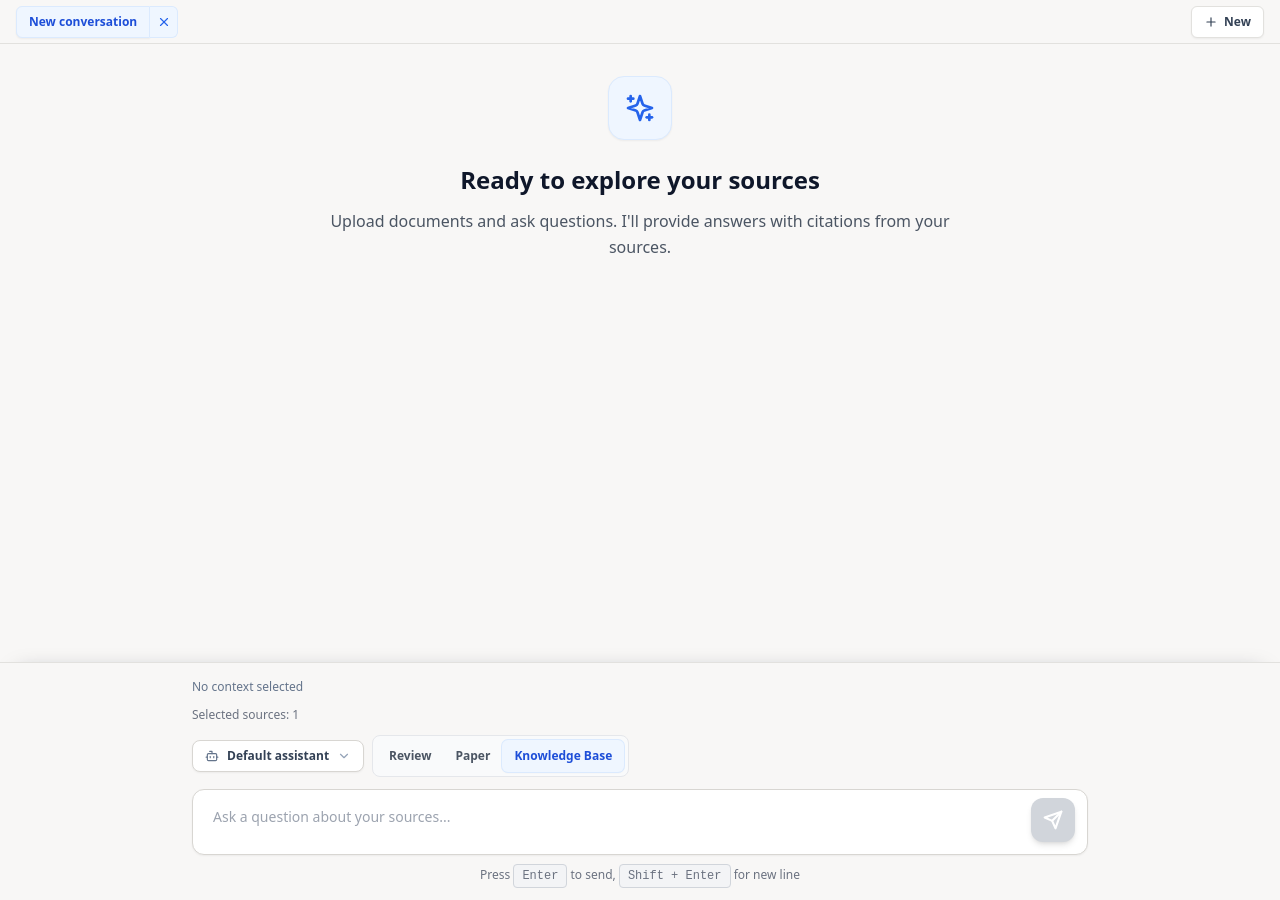
Test: ChatInterface workspace layout › submits a skill command through the inspectable agent run API
Type "/paper_planner outline chapter 2" into the text box with placeholder "Ask a question about your sources..." at (640,818), box [193, 790, 1087, 846]
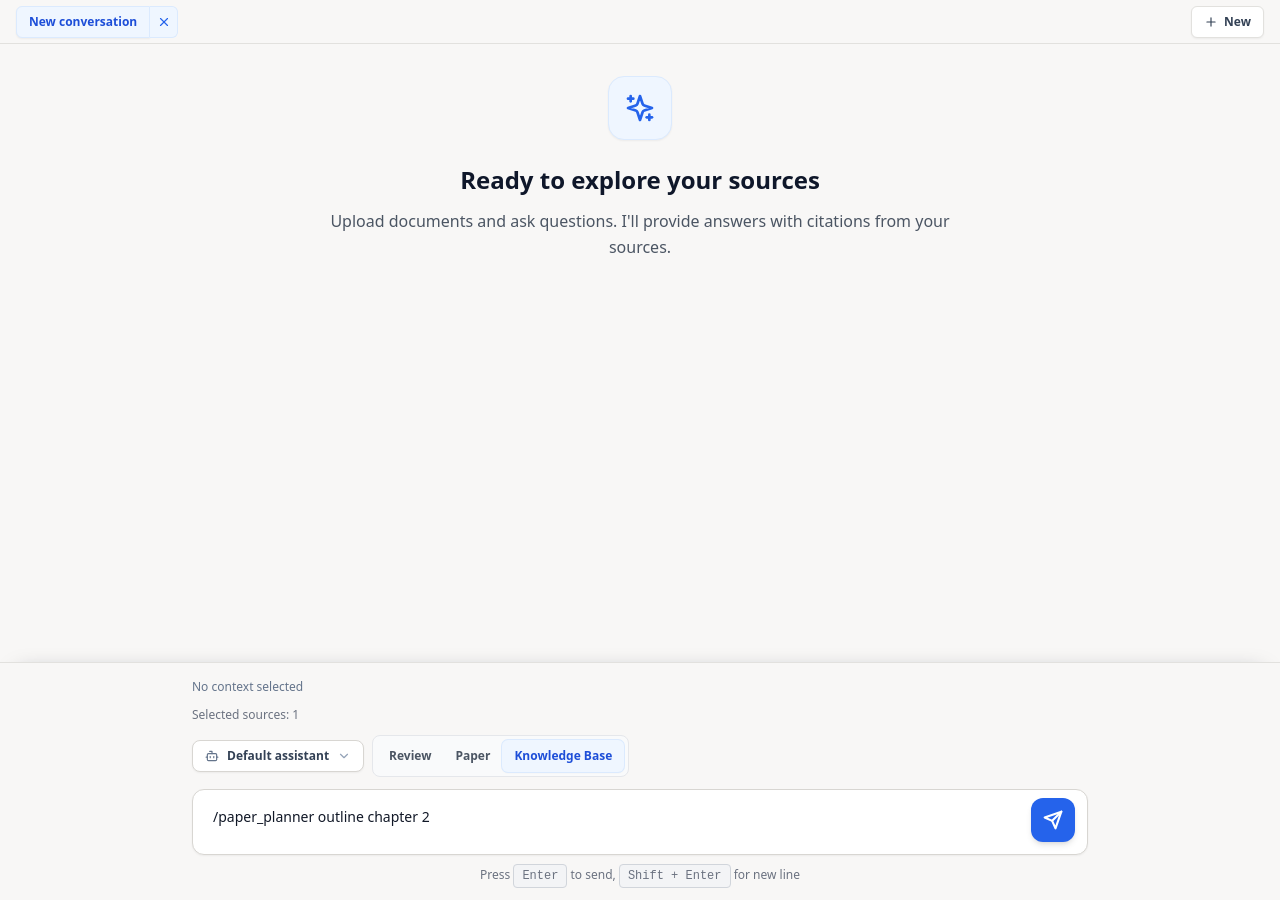
Click the button named "Send message" at (1053,820), box [1031, 798, 1075, 842]
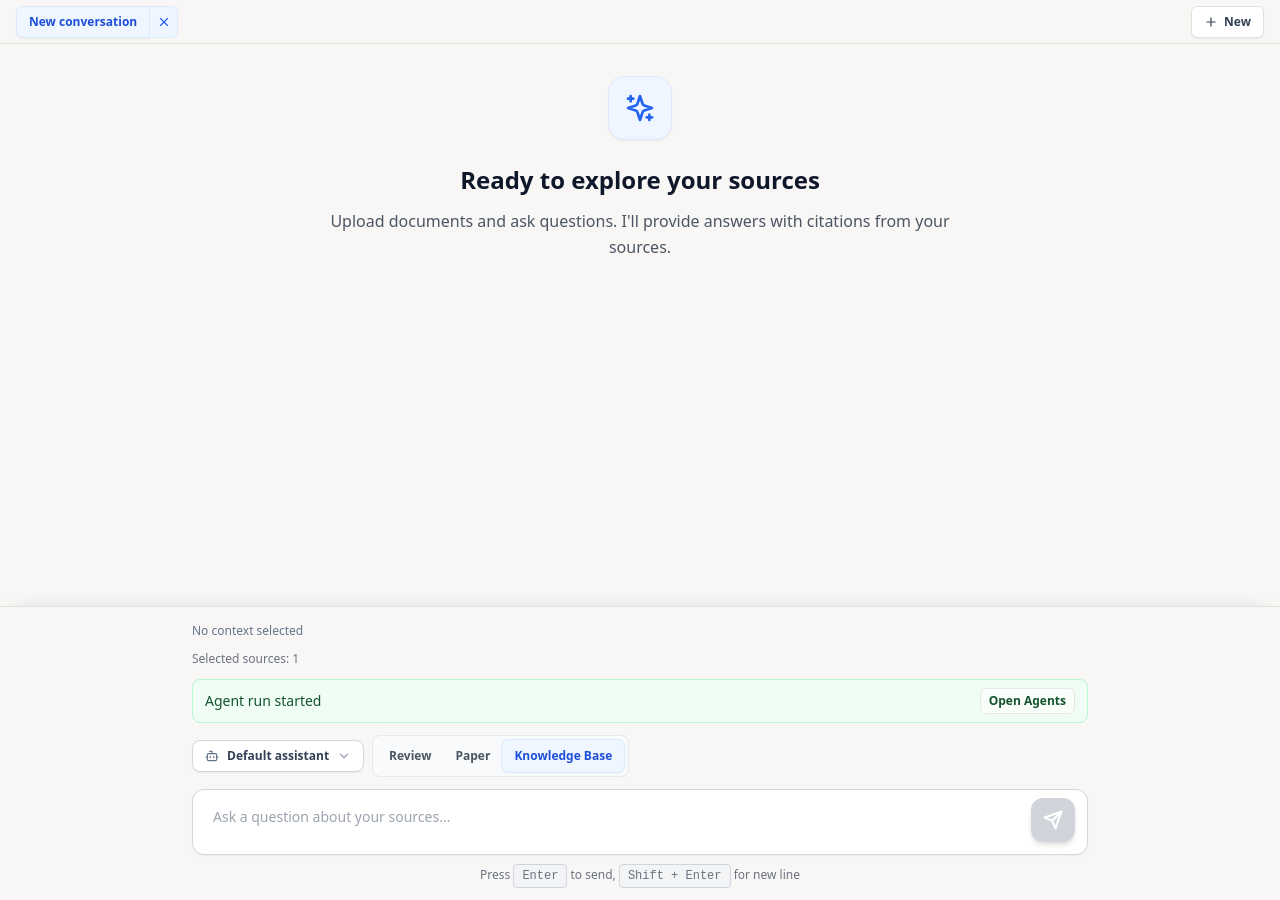
Expected: the text "Agent run started" is shown, [205, 691, 322, 711]
Expected: the button "Open Agents" is shown, [980, 688, 1075, 714]
